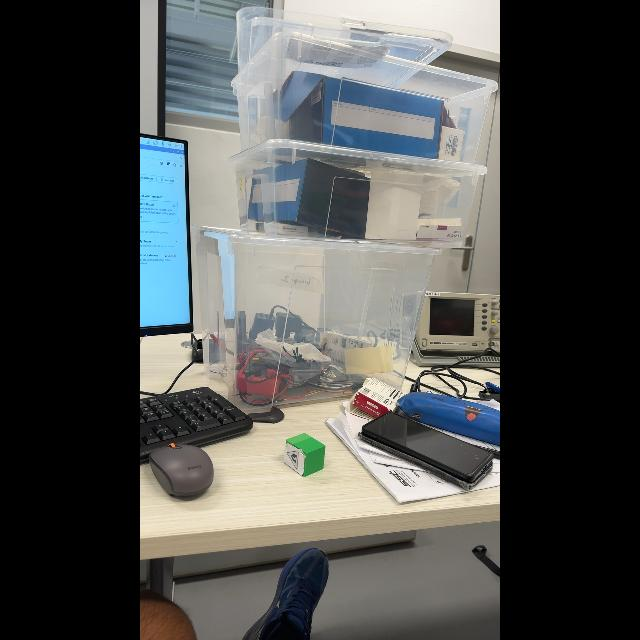Earthquake: (287, 450, 298, 469)
